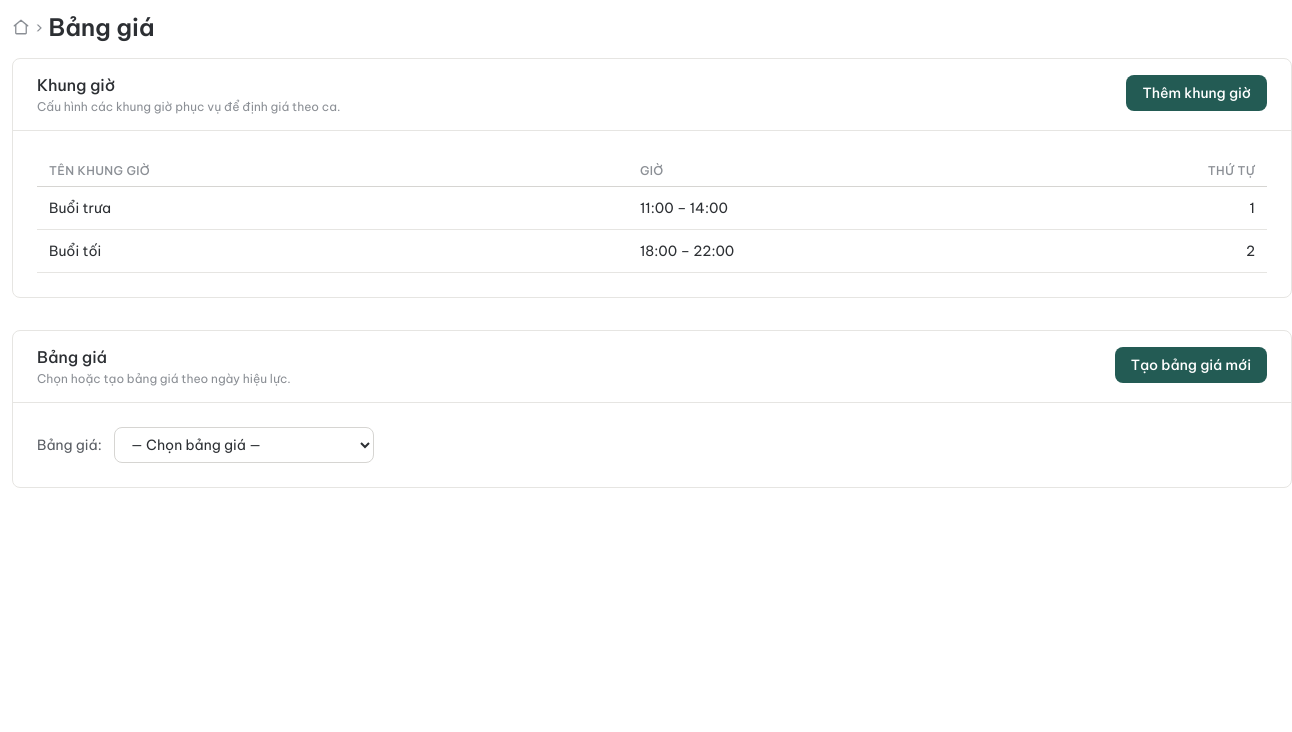
PricingPage — version selector and price matrix › renders versions in the selector and loads matrix when one is selected
The image size is (1292, 732).
// Select ver-1 to load its matrix
Select "Giá thường (2026-01-01)" in the dropdown at (244, 445), box left=114, top=427, right=374, bottom=463
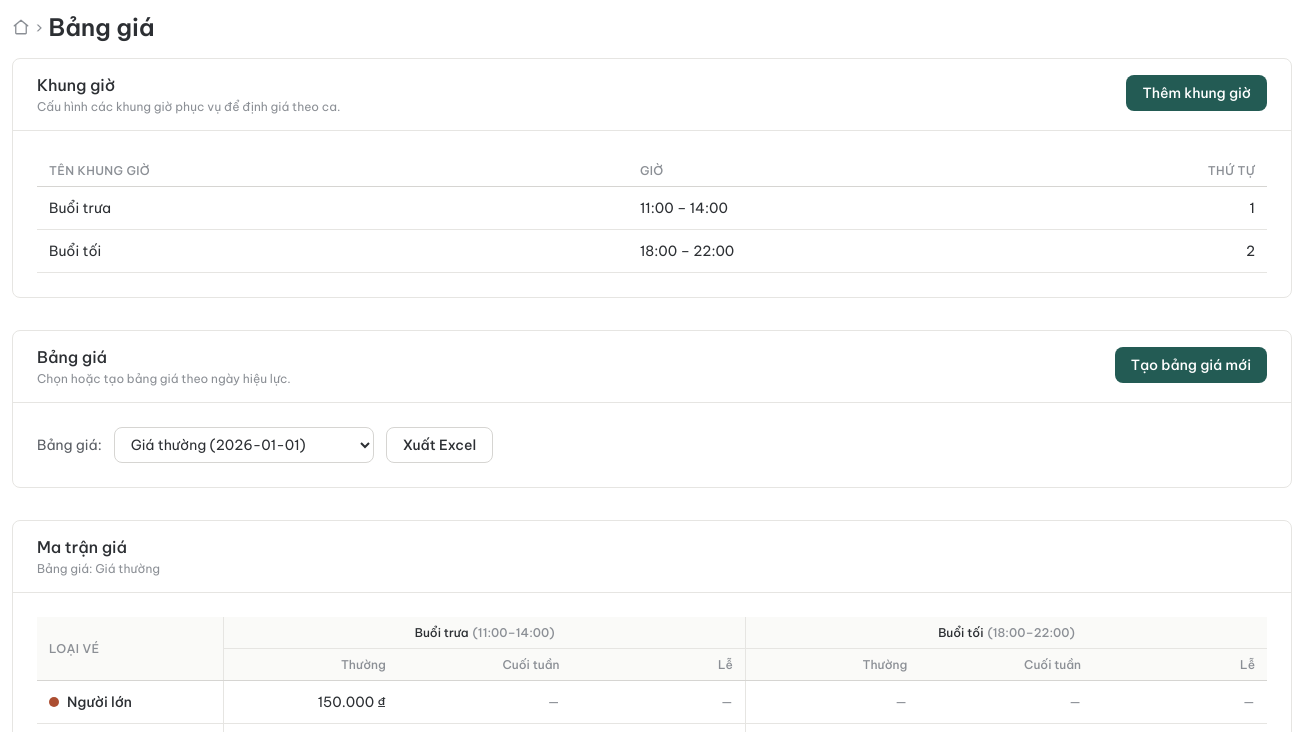
Expected: the text "Người lớn" is shown, left=49, top=693, right=132, bottom=711
Expected: the text "150.000 ₫" is shown, left=224, top=680, right=398, bottom=724
